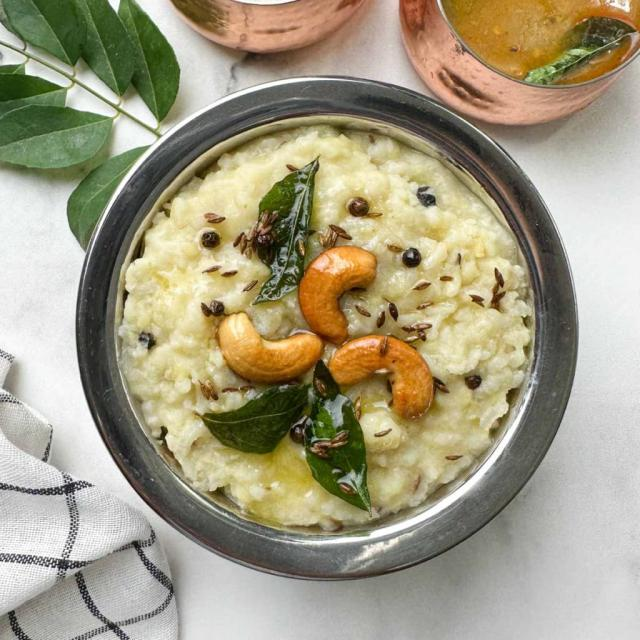khara pongal: (102, 100, 547, 556)
